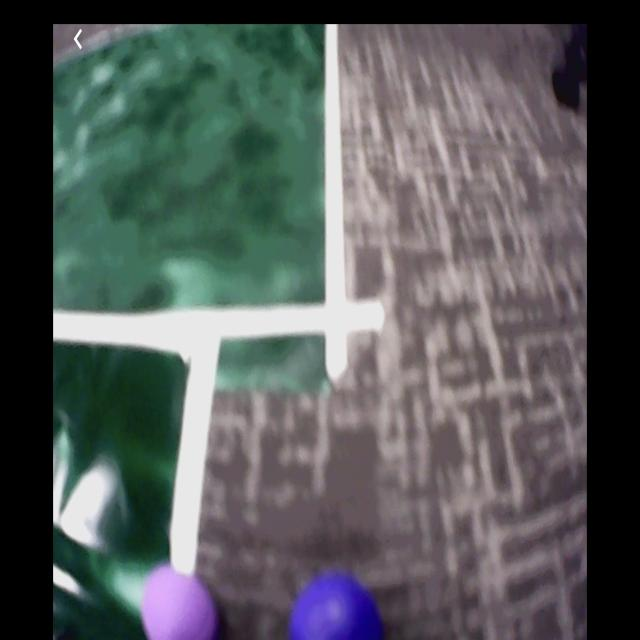ball: (291, 576, 387, 640), (143, 567, 217, 640)
